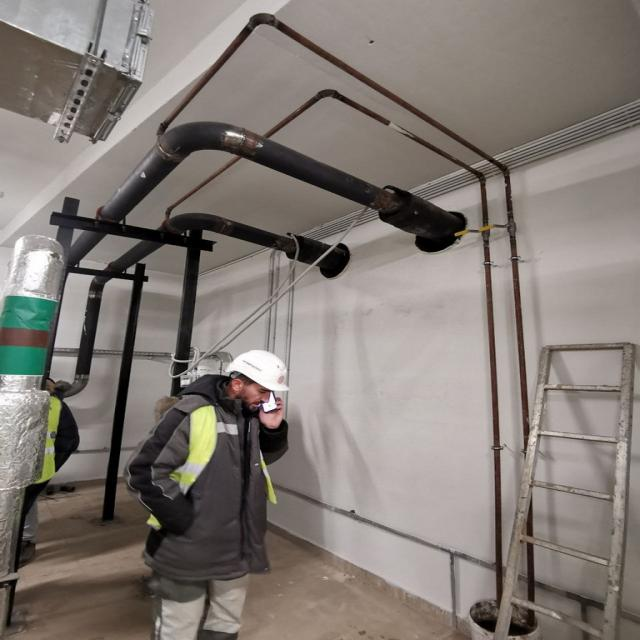Helmet: (229, 350, 293, 395)
Jacket: (153, 396, 285, 543), (47, 390, 63, 486)
